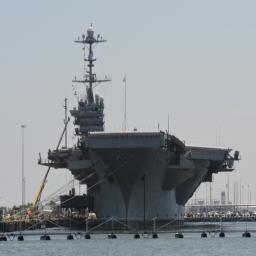Portanaves: (36, 22, 244, 232)
